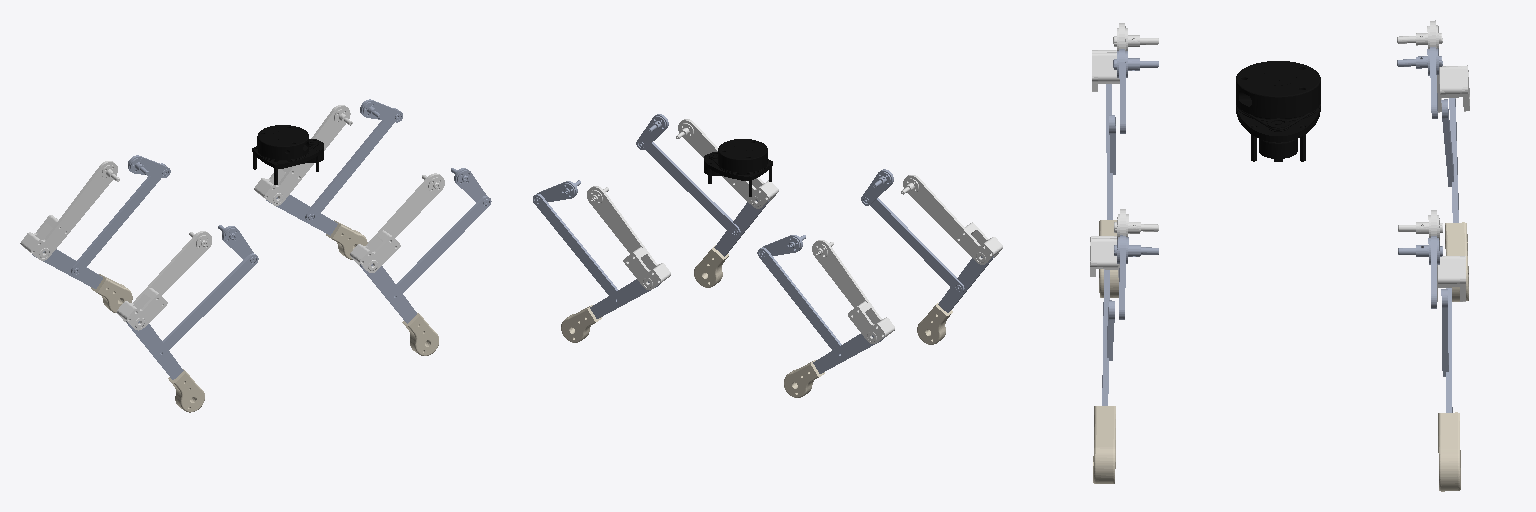
--- Facts derived from the render (not from the file) ---
3 views of the same robot in one strip: view 1: azimuth 30°, elevation 25°; view 2: azimuth 150°, elevation 25°; view 3: azimuth 270°, elevation 25° (orthographic).
Robot: keep_leg_export — 19 links, 18 joints (12 revolute, 6 fixed); root link base_link; default pose: all joints at 0.
Links seen in each view (by area): view 1: rf_h_mid_link, rh_h_mid_link, lf_h_mid_link, lh_h_mid_link, lh_h_upper_link, rh_h_upper_link, rf_h_upper_link, lidar_link, lf_h_upper_link, rf_foot_link, rh_foot_link, lh_foot_link (+1 smaller); view 2: lh_h_mid_link, lf_h_mid_link, rh_h_mid_link, rf_h_mid_link, lh_h_upper_link, lf_h_upper_link, rh_h_upper_link, lidar_link, rf_h_upper_link, rh_foot_link, rf_foot_link, lh_foot_link (+1 smaller); view 3: lidar_link, lh_h_mid_link, rf_h_mid_link, rh_h_mid_link, lf_h_mid_link, lh_h_upper_link, rf_foot_link, lf_foot_link, lf_h_upper_link, rf_h_upper_link, rh_h_upper_link, lh_foot_link (+1 smaller).
Link boxes in pixels (<box>): rf_h_mid_link: <box>360,168,491,323</box>; rh_h_mid_link: <box>126,225,258,379</box>; lf_h_mid_link: <box>266,99,402,235</box>; lh_h_mid_link: <box>32,155,170,288</box>; lh_h_upper_link: <box>20,161,119,260</box>; rh_h_upper_link: <box>117,231,211,330</box>; rf_h_upper_link: <box>350,173,444,272</box>; lidar_link: <box>252,125,323,184</box>; lf_h_upper_link: <box>254,105,352,205</box>; rf_foot_link: <box>402,313,438,355</box>; rh_foot_link: <box>168,369,204,412</box>; lh_foot_link: <box>91,274,132,312</box>; lh_h_mid_link: <box>757,235,884,373</box>; lf_h_mid_link: <box>533,180,660,318</box>; rh_h_mid_link: <box>861,169,993,312</box>; rf_h_mid_link: <box>636,114,769,256</box>; lh_h_upper_link: <box>812,240,894,343</box>; lf_h_upper_link: <box>587,186,670,289</box>; rh_h_upper_link: <box>901,175,1002,264</box>; lidar_link: <box>704,139,772,196</box>; rf_h_upper_link: <box>676,119,778,208</box>; rh_foot_link: <box>917,303,952,344</box>; rf_foot_link: <box>694,245,728,287</box>; lh_foot_link: <box>784,360,824,397</box>; lidar_link: <box>1236,61,1320,161</box>; lh_h_mid_link: <box>1397,47,1458,222</box>; rf_h_mid_link: <box>1102,235,1158,405</box>; rh_h_mid_link: <box>1106,49,1158,219</box>; lf_h_mid_link: <box>1398,236,1452,412</box>; lh_h_upper_link: <box>1397,20,1469,112</box>; rf_foot_link: <box>1093,406,1115,483</box>; lf_foot_link: <box>1438,412,1460,491</box>; lf_h_upper_link: <box>1398,210,1465,301</box>; rf_h_upper_link: <box>1090,209,1158,277</box>; rh_h_upper_link: <box>1092,23,1158,91</box>; lh_foot_link: <box>1445,222,1468,301</box>.
Size in the robot's own frame: 0.5934 by 0.3121 by 0.3024 metres.
13 mesh visuals loaded from 18 distinct referenced files (13 binary STL); not drawn: 5 (reference not matched to a file when rendering).

URDF robot description (keep_leg_export):
<?xml version="1.0" encoding="utf-8"?>
<!-- This URDF was automatically created by SolidWorks to URDF Exporter! Originally created by Stephen Brawner ([email redacted]) 
     Commit Version: 1.6.0-4-g7f85cfe  Build Version: 1.6.7995.38578
     For more information, please see http://wiki.ros.org/sw_urdf_exporter -->
<robot
  name="keep_leg_export">
  <link name="base_link">
    <collision>
      <origin rpy="0 0 0" xyz="0 0 0"/>
      <geometry>
        <mesh filename="package://keep_leg_export/meshes/base_link.STL" scale="0.001 0.001 0.001"/>
      </geometry>
    </collision>
    <visual>
      <origin rpy="0 0 0" xyz="0 0 0"/>
      <geometry>
        <mesh filename="package://keep_leg_export/meshes/base_link.STL" scale="1 1 1"/>
      </geometry>
      <material
        name="">
        <color
          rgba="0.666666666666667 0.698039215686274 0.768627450980392 1" />
      </material>
    </visual>
  </link>
  <link name="base_inertia">
    <inertial>
      <origin xyz="0 0 0"/>
      <mass value="1.0"/>
      <inertia ixx="0.0008166666666666667" ixy="0.0" ixz="0.0" iyy="0.0036096666666666673" iyz="0.0" izz="0.0036096666666666673"/>
    </inertial>
  </link>
  <joint name="base_link_to_base_inertia" type="fixed">
    <parent link="base_link"/>
    <child link="base_inertia"/>
    <origin rpy="0 0 0" xyz="0 0 0"/>
  </joint>

  <gazebo reference="base_link">
    <kp>100000.0</kp>
    <kd>100000.0</kd>
    <mu1>10.0</mu1>
    <mu2>10.0</mu2>
    <material>Gazebo/Grey</material>
</gazebo>
  <link
    name="lidar_link">
    <inertial>
      <origin
        xyz="0.00577544245185518 0.000608180456644347 -0.0195616906884153"
        rpy="0 0 0" />
      <mass
        value="0.142994095653187" />
      <inertia
        ixx="4.62767161181515E-05"
        ixy="-8.53572518984279E-07"
        ixz="3.62184026396535E-06"
        iyy="7.34746440088866E-05"
        iyz="-2.04304178805651E-07"
        izz="0.000107960183716792" />
    </inertial>
    <visual>
      <origin
        xyz="0 0 0"
        rpy="0 0 0" />
      <geometry>
        <mesh
          filename="package://keep_leg_export/meshes/lidar_link.STL" />
      </geometry>
      <material
        name="">
        <color
          rgba="0.101960784313725 0.101960784313725 0.101960784313725 1" />
      </material>
    </visual>
    <collision>
      <origin
        xyz="0 0 0"
        rpy="0 0 0" />
      <geometry>
        <mesh
          filename="package://keep_leg_export/meshes/lidar_link.STL" />
      </geometry>
    </collision>
  </link>
  <gazebo reference="lidar_link">
    <kp>100000.0</kp>
    <kd>100000.0</kd>
    <mu1>10.0</mu1>
    <mu2>10.0</mu2>
    <material>Gazebo/Grey</material>
  </gazebo>
  <joint
    name="lidar_joint"
    type="fixed">
    <origin
      xyz="-0.00316383682030741 -0.000113075355854753 0.044"
      rpy="0 0 0" />
    <parent
      link="base_link" />
    <child
      link="lidar_link" />
    <axis
      xyz="0 0 0" />
  </joint>
  <link
    name="rf_hip_link">
    <inertial>
      <origin
        xyz="0.051105 -0.0064092 -0.0065636"
        rpy="0 0 0" />
      <mass
        value="0.301" />
      <inertia
        ixx="0.00010685"
        ixy="1.0881E-09"
        ixz="8.9008E-09"
        iyy="0.00024948"
        iyz="1.3484E-05"
        izz="0.00024351" />
    </inertial>
    <visual>
      <origin
        xyz="0 0 0"
        rpy="0 0 0" />
      <geometry>
        <mesh
          filename="package://keep_leg_export/meshes/rf_hip_link.STL" />
      </geometry>
      <material
        name="">
        <color
          rgba="0.66667 0.69804 0.76863 1" />
      </material>
    </visual>
    <collision>
      <origin
        xyz="0 0 0"
        rpy="0 0 0" />
      <geometry>
        <mesh
          filename="package://keep_leg_export/meshes/rf_hip_link.STL" />
      </geometry>
    </collision>
  </link>
  <gazebo reference="rf_hip_link">
    <kp>100000.0</kp>
    <kd>100000.0</kd>
    <mu1>10.0</mu1>
    <mu2>10.0</mu2>
    <material>Gazebo/Grey</material>
  </gazebo>
  <joint
    name="rf_hip_joint"
    type="revolute">
    <origin
      xyz="0.1325 -0.0798899999999288 -0.0292976400492969"
      rpy="0 0 0" />
    <parent
      link="base_link" />
    <child
      link="rf_hip_link" />
    <axis
      xyz="-1 0 0" />
    <limit
      lower="-3.14"
      upper="3.14"
      effort="5"
      velocity="10" />
  </joint>
  <link
    name="rf_h_upper_link">
    <inertial>
      <origin
        xyz="-0.0668128326099894 -0.000201076465554229 -0.0492390564779382"
        rpy="0 0 0" />
      <mass
        value="0.108446459752499" />
      <inertia
        ixx="4.55350835364376E-05"
        ixy="-9.11870718885064E-07"
        ixz="-5.53553247981242E-05"
        iyy="0.000129422913083595"
        iyz="-7.2935535177326E-07"
        izz="8.5181340447565E-05" />
    </inertial>
    <visual>
      <origin
        xyz="0 0 0"
        rpy="0 0 0" />
      <geometry>
        <mesh
          filename="package://keep_leg_export/meshes/rf_h_upper_link.STL" />
      </geometry>
      <material
        name="">
        <color
          rgba="0.898039215686275 0.898039215686275 0.898039215686275 1" />
      </material>
    </visual>
    <collision>
      <origin
        xyz="0 0 0"
        rpy="0 0 0" />
      <geometry>
        <mesh
          filename="package://keep_leg_export/meshes/rf_h_upper_link.STL" />
      </geometry>
    </collision>
  </link>
  <joint
    name="rf_h_upper_joint"
    type="revolute">
    <origin
      xyz="0.027 -0.054174 0.014192"
      rpy="0 0 0" />
    <parent
      link="rf_hip_link" />
    <child
      link="rf_h_upper_link" />
    <axis
      xyz="0 -0.99986 0.016471" />
    <limit
      lower="-3.14"
      upper="3.14"
      effort="5"
      velocity="10" />
  </joint>
  <link
    name="rf_h_mid_link">
    <inertial>
      <origin
        xyz="0.0967787580032495 -0.00591180665409269 0.00714491110814697"
        rpy="0 0 0" />
      <mass
        value="0.117810135038864" />
      <inertia
        ixx="0.000107230602958208"
        ixy="-7.13769881469904E-06"
        ixz="1.17570140272495E-07"
        iyy="0.000106572345085072"
        iyz="1.75375221105353E-06"
        izz="0.000212982544775332" />
    </inertial>
    <visual>
      <origin
        xyz="0 0 0"
        rpy="0 0 0" />
      <geometry>
        <mesh
          filename="package://keep_leg_export/meshes/rf_h_mid_link.STL" />
      </geometry>
      <material
        name="">
        <color
          rgba="0.666666666666667 0.698039215686274 0.768627450980392 1" />
      </material>
    </visual>
    <collision>
      <origin
        xyz="0 0 0"
        rpy="0 0 0" />
      <geometry>
        <mesh
          filename="package://keep_leg_export/meshes/rf_h_mid_link.STL" />
      </geometry>
    </collision>
  </link>
  <joint
    name="rf_h_mid_joint"
    type="revolute">
    <origin
      xyz="-0.11118 0.0049977 -0.08518"
      rpy="1.5708 0 0" />
    <parent
      link="rf_h_upper_link" />
    <child
      link="rf_h_mid_link" />
    <axis
      xyz="0 -0.016471 -0.99986" />
    <limit
      lower="-3.14"
      upper="3.14"
      effort="5"
      velocity="10" />
  </joint>
  <link
    name="rf_foot_link">
    <inertial>
      <origin
        xyz="-0.00374869467623781 0.000142004827704434 0.0086208534369171"
        rpy="0 0 0" />
      <mass
        value="0.0383346012022141" />
      <inertia
        ixx="1.04864883240922E-05"
        ixy="4.72357605320845E-08"
        ixz="2.86716749339522E-06"
        iyy="1.40272111217805E-05"
        iyz="-1.35937584431514E-07"
        izz="5.77698064579112E-06" />
    </inertial>
    <visual>
      <origin
        xyz="0 0 0"
        rpy="0 0 0" />
      <geometry>
        <mesh
          filename="package://keep_leg_export/meshes/rf_foot_link.STL" />
      </geometry>
      <material
        name="">
        <color
          rgba="0.843137254901961 0.815686274509804 0.752941176470588 1" />
      </material>
    </visual>
    <collision>
      <origin
        xyz="0 0 0"
        rpy="0 0 0" />
      <geometry>
        <mesh
          filename="package://keep_leg_export/meshes/rf_foot_link.STL" />
      </geometry>
    </collision>
  </link>
  <joint
    name="rf_foot_joint"
    type="fixed">
    <origin
      xyz="0.087095239330567 -0.137683587188068 0.0136696417281597"
      rpy="-1.5707963267949 0 0" />
    <parent
      link="rf_h_mid_link" />
    <child
      link="rf_foot_link" />
    <axis
      xyz="0 0 0" />
  </joint>
  <link
    name="rh_hip_link">
    <inertial>
      <origin
        xyz="-0.051107 -0.0062566 -0.0067091"
        rpy="0 0 0" />
      <mass
        value="0.301" />
      <inertia
        ixx="0.00010685"
        ixy="8.7515E-10"
        ixz="9.633E-09"
        iyy="0.00024886"
        iyz="1.3612E-05"
        izz="0.00024413" />
    </inertial>
    <visual>
      <origin
        xyz="0 0 0"
        rpy="0 0 0" />
      <geometry>
        <mesh
          filename="package://keep_leg_export/meshes/rh_hip_link.STL" />
      </geometry>
      <material
        name="">
        <color
          rgba="0.66667 0.69804 0.76863 1" />
      </material>
    </visual>
    <collision>
      <origin
        xyz="0 0 0"
        rpy="0 0 0" />
      <geometry>
        <mesh
          filename="package://keep_leg_export/meshes/rh_hip_link.STL" />
      </geometry>
    </collision>
  </link>
  <joint
    name="rh_hip_joint"
    type="revolute">
    <origin
      xyz="-0.1325 -0.0798900000000005 -0.0292976400491653"
      rpy="0 0 0" />
    <parent
      link="base_link" />
    <child
      link="rh_hip_link" />
    <axis
      xyz="-1 0 0" />
    <limit
      lower="-3.14"
      upper="3.14"
      effort="5"
      velocity="10" />
  </joint>
  <link
    name="rh_h_upper_link">
    <inertial>
      <origin
        xyz="-0.0668128321368548 0.000930459071025569 -0.0492306746282527"
        rpy="0 0 0" />
      <mass
        value="0.108446460508965" />
      <inertia
        ixx="4.55350835382334E-05"
        ixy="3.60400382732239E-07"
        ixz="-5.53616618595437E-05"
        iyy="0.000129433062665089"
        iyz="2.87789798758398E-07"
        izz="8.51711908871302E-05" />
    </inertial>
    <visual>
      <origin
        xyz="0 0 0"
        rpy="0 0 0" />
      <geometry>
        <mesh
          filename="package://keep_leg_export/meshes/rh_h_upper_link.STL" />
      </geometry>
      <material
        name="">
        <color
          rgba="0.898039215686275 0.898039215686275 0.898039215686275 1" />
      </material>
    </visual>
    <collision>
      <origin
        xyz="0 0 0"
        rpy="0 0 0" />
      <geometry>
        <mesh
          filename="package://keep_leg_export/meshes/rh_h_upper_link.STL" />
      </geometry>
    </collision>
  </link>
  <joint
    name="rh_h_upper_joint"
    type="revolute">
    <origin
      xyz="-0.072 -0.054485 0.012943"
      rpy="0 0 0" />
    <parent
      link="rh_hip_link" />
    <child
      link="rh_h_upper_link" />
    <axis
      xyz="0 -0.99998 -0.0065096" />
    <limit
      lower="-3.14"
      upper="3.14"
      effort="5"
      velocity="10" />
  </joint>
  <link
    name="rh_h_mid_link">
    <inertial>
      <origin
        xyz="0.0967787584470181 -0.00607443045088757 0.00700717474401957"
        rpy="0 0 0" />
      <mass
        value="0.117810135921722" />
      <inertia
        ixx="0.000107230602962527"
        ixy="-7.13851571083036E-06"
        ixz="-4.64807153561258E-08"
        iyy="0.00010654795619169"
        iyz="-6.9269327687283E-07"
        izz="0.000213006933683945" />
    </inertial>
    <visual>
      <origin
        xyz="0 0 0"
        rpy="0 0 0" />
      <geometry>
        <mesh
          filename="package://keep_leg_export/meshes/rh_h_mid_link.STL" />
      </geometry>
      <material
        name="">
        <color
          rgba="0.666666666666667 0.698039215686274 0.768627450980392 1" />
      </material>
    </visual>
    <collision>
      <origin
        xyz="0 0 0"
        rpy="0 0 0" />
      <geometry>
        <mesh
          filename="package://keep_leg_export/meshes/rh_h_mid_link.STL" />
      </geometry>
    </collision>
  </link>
  <joint
    name="rh_h_mid_joint"
    type="revolute">
    <origin
      xyz="-0.111177016312381 0.00695374120469172 -0.0850427923291257"
      rpy="1.5707963267949 0 0" />
    <parent
      link="rh_h_upper_link" />
    <child
      link="rh_h_mid_link" />
    <axis
      xyz="0 0.00650959189271841 -0.999978812382238" />
    <limit
      lower="-3.14"
      upper="3.14"
      effort="5"
      velocity="10" />
  </joint>
  <link
    name="rh_foot_link">
    <inertial>
      <origin
        xyz="-0.00374869468568095 -5.61344255121665E-05 0.00862184018063239"
        rpy="0 0 0" />
      <mass
        value="0.0383346011874611" />
      <inertia
        ixx="1.04864883148301E-05"
        ixy="-1.86624067397946E-08"
        ixz="2.86749584033282E-06"
        iyy="1.40291004399198E-05"
        iyz="5.37409927361688E-08"
        izz="5.77509132612842E-06" />
    </inertial>
    <visual>
      <origin
        xyz="0 0 0"
        rpy="0 0 0" />
      <geometry>
        <mesh
          filename="package://keep_leg_export/meshes/rh_foot_link.STL" />
      </geometry>
      <material
        name="">
        <color
          rgba="0.843137254901961 0.815686274509804 0.752941176470588 1" />
      </material>
    </visual>
    <collision>
      <origin
        xyz="0 0 0"
        rpy="0 0 0" />
      <geometry>
        <mesh
          filename="package://keep_leg_export/meshes/rh_foot_link.STL" />
      </geometry>
    </collision>
  </link>
  <joint
    name="rh_foot_joint"
    type="fixed">
    <origin
      xyz="0.087095 -0.13796 0.010502"
      rpy="-1.5708 0 0" />
    <parent
      link="rh_h_mid_link" />
    <child
      link="rh_foot_link" />
    <axis
      xyz="0 0 0" />
  </joint>
  <link
    name="lf_hip_link">
    <inertial>
      <origin
        xyz="0.051135 0.0063442 -0.0066265"
        rpy="0 0 0" />
      <mass
        value="0.301" />
      <inertia
        ixx="0.00010685"
        ixy="9.9684E-10"
        ixz="-9.621E-09"
        iyy="0.00024922"
        iyz="-1.3542E-05"
        izz="0.00024377" />
    </inertial>
    <visual>
      <origin
        xyz="0 0 0"
        rpy="0 0 0" />
      <geometry>
        <mesh
          filename="package://keep_leg_export/meshes/lf_hip_link.STL" />
      </geometry>
      <material
        name="">
        <color
          rgba="0.66667 0.69804 0.76863 1" />
      </material>
    </visual>
    <collision>
      <origin
        xyz="0 0 0"
        rpy="0 0 0" />
      <geometry>
        <mesh
          filename="package://keep_leg_export/meshes/lf_hip_link.STL" />
      </geometry>
    </collision>
  </link>
  <joint
    name="lf_hip_joint"
    type="revolute">
    <origin
      xyz="0.1325 0.07989 -0.029298"
      rpy="0 0 0" />
    <parent
      link="base_link" />
    <child
      link="lf_hip_link" />
    <axis
      xyz="1 0 0" />
    <limit
      lower="-3.14"
      upper="3.14"
      effort="5"
      velocity="10" />
  </joint>
  <link
    name="lf_h_upper_link">
    <inertial>
      <origin
        xyz="-0.0589927944433671 -0.00022376998211901 -0.0583805574455977"
        rpy="0 0 0" />
      <mass
        value="0.108446460117747" />
      <inertia
        ixx="6.22033266932145E-05"
        ixy="3.88448082434307E-07"
        ixz="-5.87170529724645E-05"
        iyy="0.000129432262514428"
        iyz="4.03439937117398E-07"
        izz="6.85037478736184E-05" />
    </inertial>
    <visual>
      <origin
        xyz="0 0 0"
        rpy="0 0 0" />
      <geometry>
        <mesh
          filename="package://keep_leg_export/meshes/lf_h_upper_link.STL" />
      </geometry>
      <material
        name="">
        <color
          rgba="0.898039215686275 0.898039215686275 0.898039215686275 1" />
      </material>
    </visual>
    <collision>
      <origin
        xyz="0 0 0"
        rpy="0 0 0" />
      <geometry>
        <mesh
          filename="package://keep_leg_export/meshes/lf_h_upper_link.STL" />
      </geometry>
    </collision>
  </link>
  <joint
    name="lf_h_upper_joint"
    type="revolute">
    <origin
      xyz="0.0270000000000012 0.0543108423095625 0.0136572192815013"
      rpy="0 0 0" />
    <parent
      link="lf_hip_link" />
    <child
      link="lf_h_upper_link" />
    <axis
      xyz="0 0.999978118921482 0.00661526101179911" />
    <limit
      lower="-3.14"
      upper="3.14"
      effort="5"
      velocity="10" />
  </joint>
  <link
    name="lf_h_mid_link">
    <inertial>
      <origin
        xyz="0.103683711340637 -0.0132836715310574 -0.0160416576255014"
        rpy="0 0 0" />
      <mass
        value="0.117810135956518" />
      <inertia
        ixx="9.11042914626449E-05"
        ixy="8.30285013750505E-06"
        ixz="5.49389299838501E-08"
        iyy="0.000122673718941518"
        iyz="-5.97974353460945E-07"
        izz="0.000213007482434997" />
    </inertial>
    <visual>
      <origin
        xyz="0 0 0"
        rpy="0 0 0" />
      <geometry>
        <mesh
          filename="package://keep_leg_export/meshes/lf_h_mid_link.STL" />
      </geometry>
      <material
        name="">
        <color
          rgba="0.666666666666667 0.698039215686274 0.768627450980392 1" />
      </material>
    </visual>
    <collision>
      <origin
        xyz="0 0 0"
        rpy="0 0 0" />
      <geometry>
        <mesh
          filename="package://keep_leg_export/meshes/lf_h_mid_link.STL" />
      </geometry>
    </collision>
  </link>
  <joint
    name="lf_h_mid_joint"
    type="revolute">
    <origin
      xyz="-0.0977077682679453 0.0172629199373165 -0.100153600111701"
      rpy="-1.5707963267949 0 0" />
    <parent
      link="lf_h_upper_link" />
    <child
      link="lf_h_mid_link" />
    <axis
      xyz="0 -0.00661526101178917 0.999978118921482" />
    <limit
      lower="-3.14"
      upper="3.14"
      effort="5"
      velocity="10" />
  </joint>
  <link
    name="lf_foot_link">
    <inertial>
      <origin
        xyz="-0.00620125999523694 -4.67563553129824E-05 0.00706641170175271"
        rpy="0 0 0" />
      <mass
        value="0.0383346003330871" />
      <inertia
        ixx="8.38077902670286E-06"
        ixy="-2.44931975928253E-08"
        ixz="3.70267977694991E-06"
        iyy="1.40291809776997E-05"
        iyz="4.06849555311775E-08"
        izz="7.88071962868401E-06" />
    </inertial>
    <visual>
      <origin
        xyz="0 0 0"
        rpy="0 0 0" />
      <geometry>
        <mesh
          filename="package://keep_leg_export/meshes/lf_foot_link.STL" />
      </geometry>
      <material
        name="">
        <color
          rgba="0.843137254901961 0.815686274509804 0.752941176470588 1" />
      </material>
    </visual>
    <collision>
      <origin
        xyz="0 0 0"
        rpy="0 0 0" />
      <geometry>
        <mesh
          filename="package://keep_leg_export/meshes/lf_foot_link.STL" />
      </geometry>
    </collision>
  </link>
  <joint
    name="lf_foot_joint"
    type="fixed">
    <origin
      xyz="0.125023535101254 0.104804410909571 -0.0109069301220405"
      rpy="1.5707963267949 0 0" />
    <parent
      link="lf_h_mid_link" />
    <child
      link="lf_foot_link" />
    <axis
      xyz="0 0 0" />
  </joint>
  <link
    name="lh_hip_link">
    <inertial>
      <origin
        xyz="0 0 0"
        rpy="0 0 0" />
      <mass
        value="0" />
      <inertia
        ixx="0"
        ixy="0"
        ixz="0"
        iyy="0"
        iyz="0"
        izz="0" />
    </inertial>
    <visual>
      <origin
        xyz="0 0 0"
        rpy="0 0 0" />
      <geometry>
        <mesh
          filename="package://keep_leg_export/meshes/lh_hip_link.STL" />
      </geometry>
      <material
        name="">
        <color
          rgba="0.66667 0.69804 0.76863 1" />
      </material>
    </visual>
    <collision>
      <origin
        xyz="0 0 0"
        rpy="0 0 0" />
      <geometry>
        <mesh
          filename="package://keep_leg_export/meshes/lh_hip_link.STL" />
      </geometry>
    </collision>
  </link>
  <joint
    name="lh_hip_joint"
    type="revolute">
    <origin
      xyz="-0.1325 0.0798899999999997 -0.0292976400491652"
      rpy="0 0 0" />
    <parent
      link="base_link" />
    <child
      link="lh_hip_link" />
    <axis
      xyz="-1 0 0" />
    <limit
      lower="-3.14"
      upper="3.14"
      effort="5"
      velocity="10" />
  </joint>
  <link
    name="lh_h_upper_link">
    <inertial>
      <origin
        xyz="-0.058992795180726 0.00181321537534801 -0.0583528224949297"
        rpy="0 0 0" />
      <mass
        value="0.108446458753431" />
      <inertia
        ixx="6.22033266883486E-05"
        ixy="2.43680055484232E-06"
        ixz="-5.86677526732737E-05"
        iyy="0.000129329962807109"
        iyz="2.52690861222676E-06"
        izz="6.86060475531218E-05" />
    </inertial>
    <visual>
      <origin
        xyz="0 0 0"
        rpy="0 0 0" />
      <geometry>
        <mesh
          filename="package://keep_leg_export/meshes/lh_h_upper_link.STL" />
      </geometry>
      <material
        name="">
        <color
          rgba="0.898039215686275 0.898039215686275 0.898039215686275 1" />
      </material>
    </visual>
    <collision>
      <origin
        xyz="0 0 0"
        rpy="0 0 0" />
      <geometry>
        <mesh
          filename="package://keep_leg_export/meshes/lh_h_upper_link.STL" />
      </geometry>
    </collision>
  </link>
  <joint
    name="lh_h_upper_joint"
    type="revolute">
    <origin
      xyz="-0.0719999999999993 0.0538012882192341 0.0155437645642256"
      rpy="0 0 0" />
    <parent
      link="lh_hip_link" />
    <child
      link="lh_h_upper_link" />
    <axis
      xyz="0 0.999138519046251 0.0414996356377259" />
    <limit
      lower="-3.14"
      upper="3.14"
      effort="5"
      velocity="10" />
  </joint>
  <link
    name="lh_h_mid_link">
    <inertial>
      <origin
        xyz="0.103683711663426 -0.0127159050000401 -0.0164953476231891"
        rpy="0 0 0" />
      <mass
        value="0.11781013696499" />
      <inertia
        ixx="9.11042914666682E-05"
        ixy="8.29587849784415E-06"
        ixz="3.44584982645921E-07"
        iyy="0.000122825378322347"
        iyz="-3.74626943283949E-06"
        izz="0.000212855823065441" />
    </inertial>
    <visual>
      <origin
        xyz="0 0 0"
        rpy="0 0 0" />
      <geometry>
        <mesh
          filename="package://keep_leg_export/meshes/lh_h_mid_link.STL" />
      </geometry>
      <material
        name="">
        <color
          rgba="0.666666666666667 0.698039215686274 0.768627450980392 1" />
      </material>
    </visual>
    <collision>
      <origin
        xyz="0 0 0"
        rpy="0 0 0" />
      <geometry>
        <mesh
          filename="package://keep_leg_export/meshes/lh_h_mid_link.STL" />
      </geometry>
    </collision>
  </link>
  <joint
    name="lh_h_mid_joint"
    type="revolute">
    <origin
      xyz="-0.0977077682679453 0.0207466855887738 -0.0994903365014819"
      rpy="-1.5707963267949 0 0" />
    <parent
      link="lh_h_upper_link" />
    <child
      link="lh_h_mid_link" />
    <axis
      xyz="0 -0.0414996356377216 0.999138519046251" />
    <limit
      lower="-3.14"
      upper="3.14"
      effort="5"
      velocity="10" />
  </joint>
  <link
    name="lh_foot_link">
    <inertial>
      <origin
        xyz="-0.00620125999919496 -0.000293269095868104 0.00706047828477646"
        rpy="0 0 0" />
      <mass
        value="0.0383346003235047" />
      <inertia
        ixx="8.3807790193781E-06"
        ixy="-1.53661693249376E-07"
        ixz="3.69957099263319E-06"
        iyy="1.40188595348517E-05"
        iyz="2.54969993924934E-07"
        izz="7.89104107147032E-06" />
    </inertial>
    <visual>
      <origin
        xyz="0 0 0"
        rpy="0 0 0" />
      <geometry>
        <mesh
          filename="package://keep_leg_export/meshes/lh_foot_link.STL" />
      </geometry>
      <material
        name="">
        <color
          rgba="0.843137254901961 0.815686274509804 0.752941176470588 1" />
      </material>
    </visual>
    <collision>
      <origin
        xyz="0 0 0"
        rpy="0 0 0" />
      <geometry>
        <mesh
          filename="package://keep_leg_export/meshes/lh_foot_link.STL" />
      </geometry>
    </collision>
  </link>
  <joint
    name="lh_foot_joint"
    type="fixed">
    <origin
      xyz="0.125023535101254 0.105121138389276 -0.00724375141289846"
      rpy="1.5707963267949 0 0" />
    <parent
      link="lh_h_mid_link" />
    <child
      link="lh_foot_link" />
    <axis
      xyz="0 0 0" />
  </joint>
</robot>
